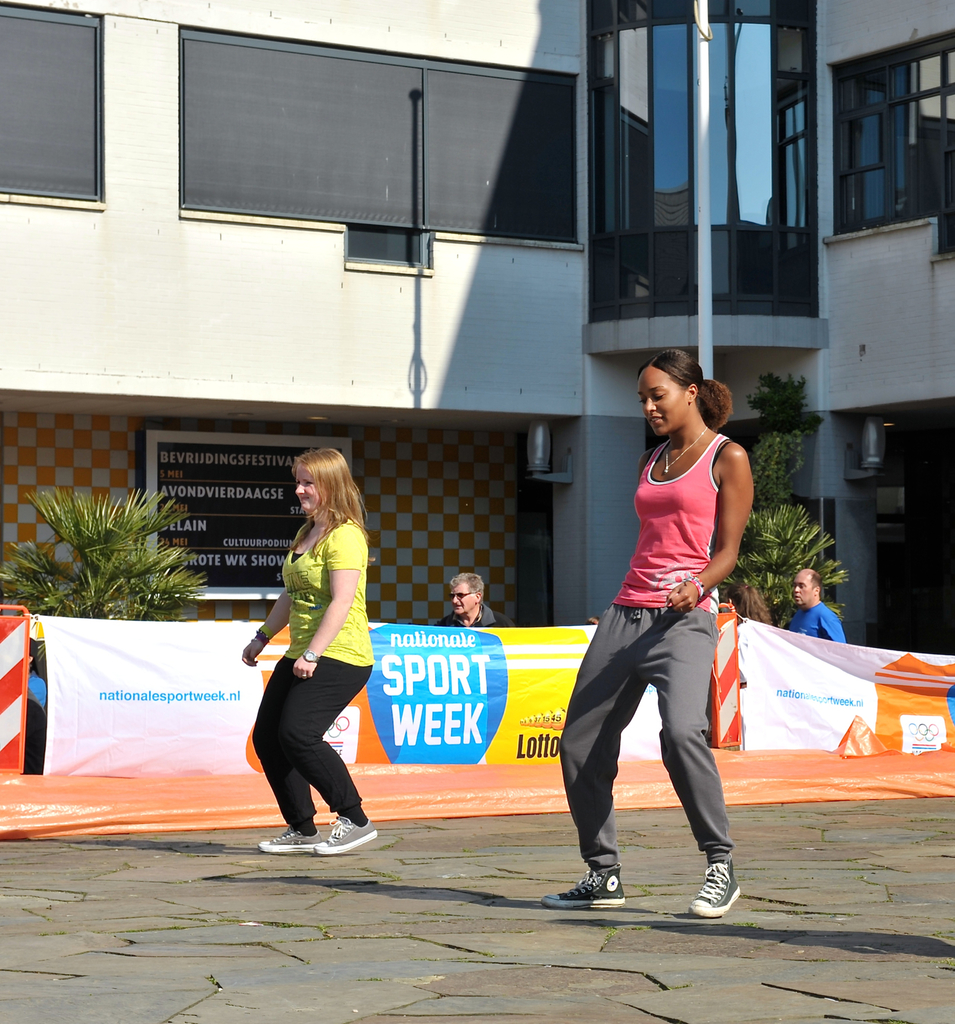Person: (433, 573, 514, 628), (786, 568, 846, 641), (730, 582, 773, 626), (29, 640, 45, 708)
